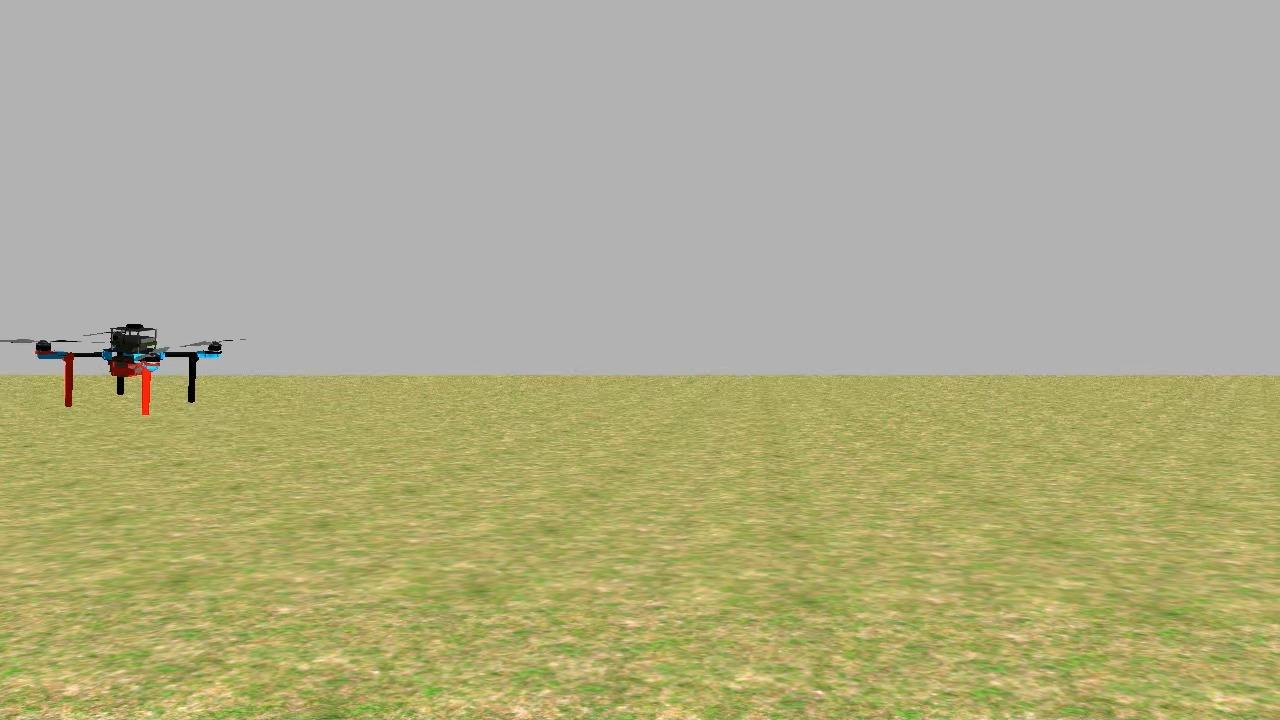UAV: (30, 309, 230, 438)
